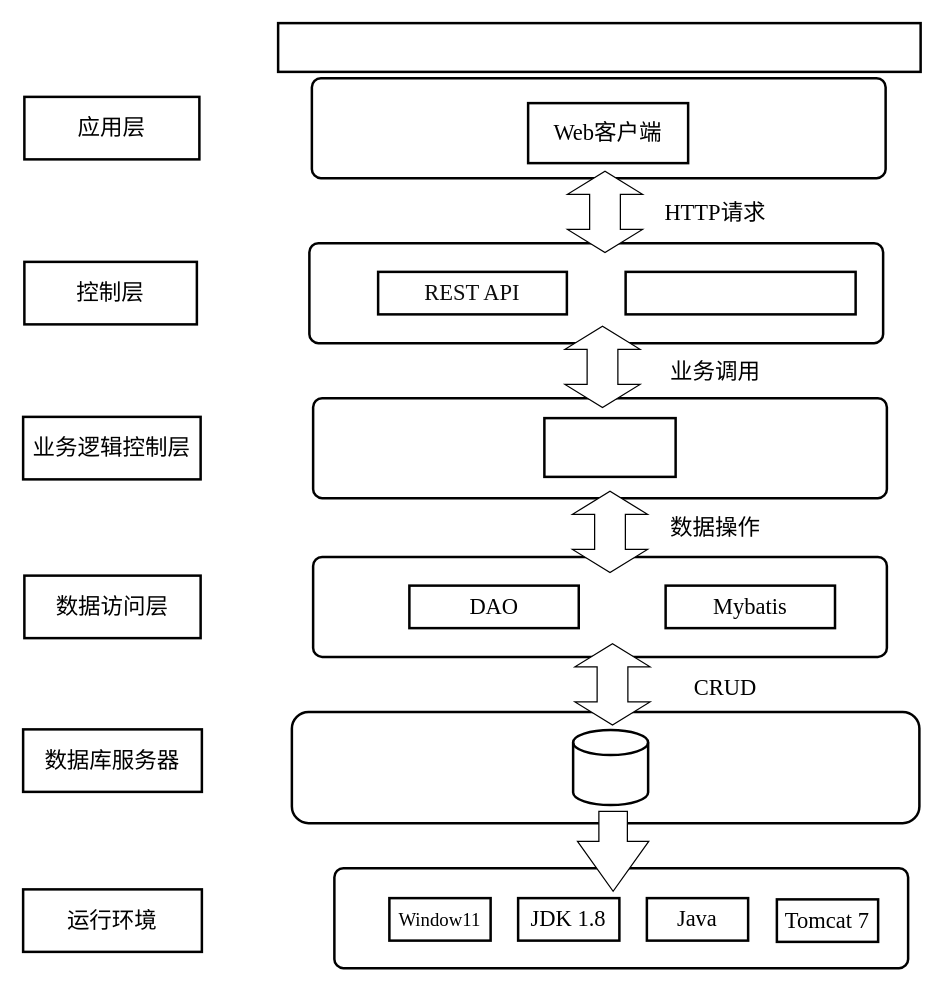
The diagram is 943 pixels wide and 990 high, and some of its shapes have lost their labels. The centre of each missing label's shape, as x and y in pixels:
"MySQL" belongs at point 610,767.
"控制器 （Controller）" belongs at point 740,292.
"服务层 （Service）" belongs at point 609,447.
"社区空巢老人互助养老 APP" belongs at point 598,46.
